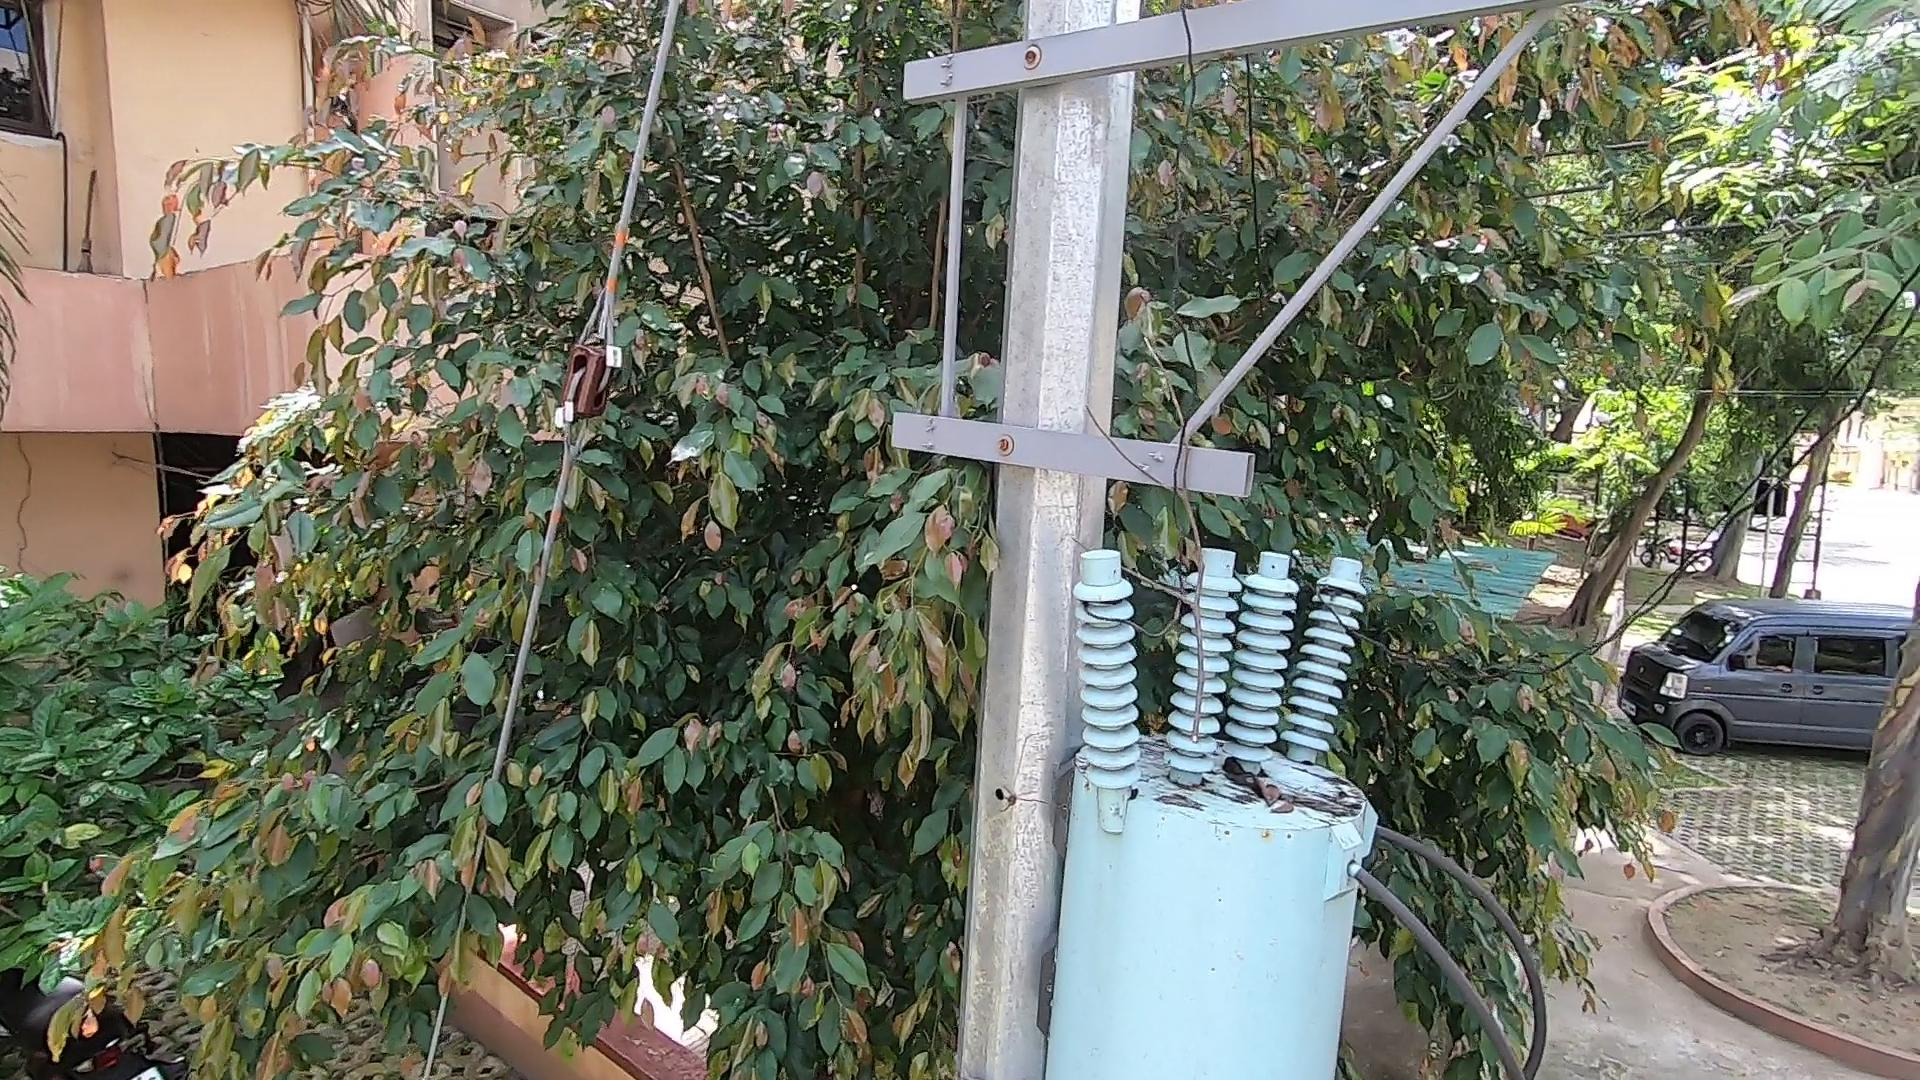leaf: (1211, 753, 1283, 808)
tree branch: (1083, 335, 1240, 741)
